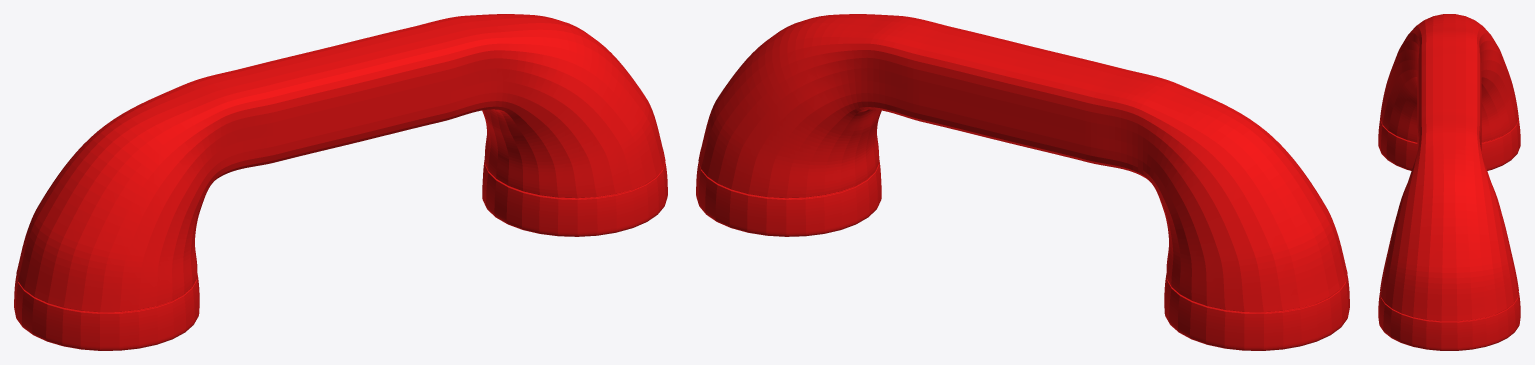
Rendered from bocina.obj.
3 renders of one model, left to right at view 1: azimuth 30°, elevation 25°; view 2: azimuth 150°, elevation 25°; view 3: azimuth 270°, elevation 25°, orthographic. The views are drawn at different scales.
Parts seen in each view (by area): view 1: polySurface8 telephone:PhoneFeetFoot1Foot_Original2; view 2: polySurface8 telephone:PhoneFeetFoot1Foot_Original2; view 3: polySurface8 telephone:PhoneFeetFoot1Foot_Original2.
Part boxes in pixels (left/top/right/bottom): polySurface8 telephone:PhoneFeetFoot1Foot_Original2: left=14, top=14, right=667, bottom=350; polySurface8 telephone:PhoneFeetFoot1Foot_Original2: left=696, top=14, right=1349, bottom=350; polySurface8 telephone:PhoneFeetFoot1Foot_Original2: left=1378, top=14, right=1520, bottom=350.
Bounding box in the file's own units: 0.304 × 0.0936 × 0.0778.
